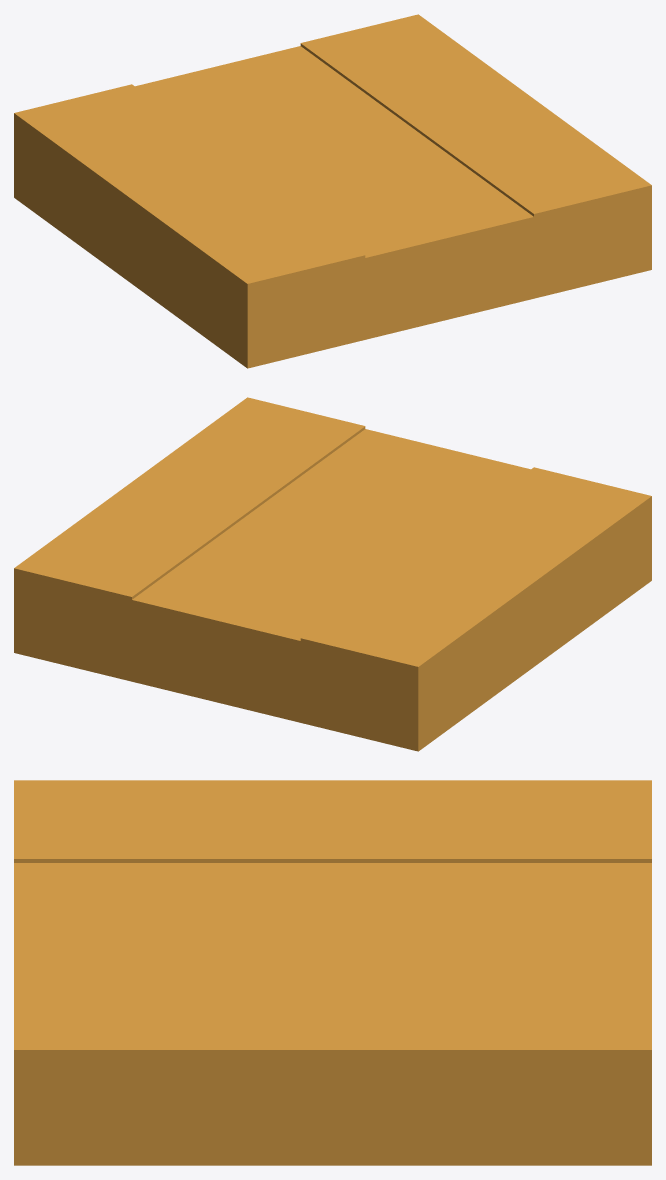
File: tile-mainroad-straight.glb
3 views of the same model, one above another, from view 1: azimuth 30°, elevation 25°; view 2: azimuth 150°, elevation 25°; view 3: azimuth 270°, elevation 25° (orthographic). The views are drawn at different scales.
Visible parts, largest first — view 1: tile-mainroad-straight; view 2: tile-mainroad-straight; view 3: tile-mainroad-straight.
Boxes of the visible parts, x1,y1,x2,y2 form: tile-mainroad-straight: [14, 14, 651, 368]; tile-mainroad-straight: [14, 397, 651, 751]; tile-mainroad-straight: [14, 780, 651, 1165].
Size of the model in its own units: 30 by 6 by 30.
